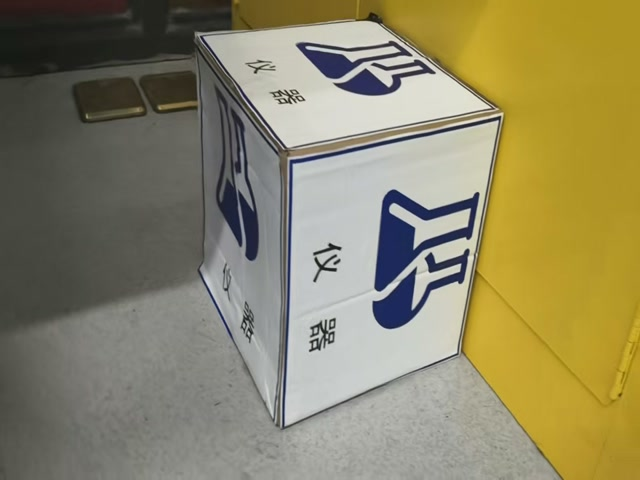Cube_ins: (192, 15, 500, 158)
